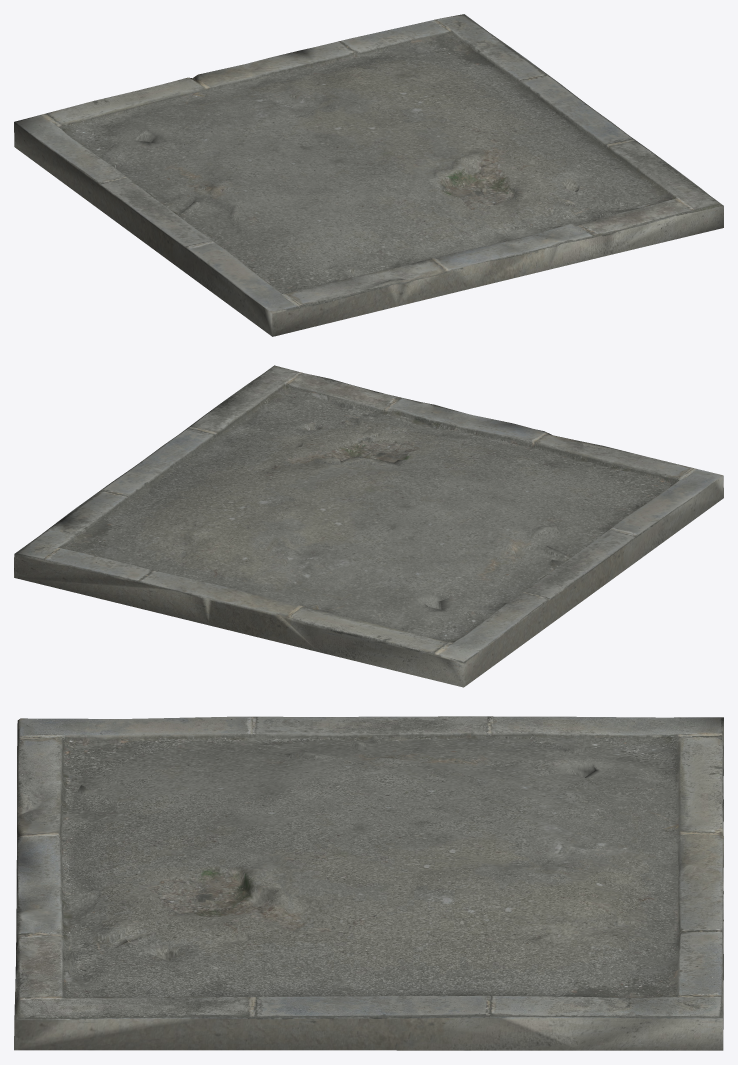
Rendered from PX_Tree_Pit_02_LOD4.fbx.
The picture shows the model from 3 angles, top to bottom: view 1: azimuth 30°, elevation 25°; view 2: azimuth 150°, elevation 25°; view 3: azimuth 270°, elevation 25°; orthographic projection. The views are drawn at different scales.
Parts seen in each view (by area): view 1: PX_Tree_Pit_02_LOD4; view 2: PX_Tree_Pit_02_LOD4; view 3: PX_Tree_Pit_02_LOD4.
Boxes of the visible parts, <box> form: PX_Tree_Pit_02_LOD4: <box>14,14,723,336</box>; PX_Tree_Pit_02_LOD4: <box>14,365,723,687</box>; PX_Tree_Pit_02_LOD4: <box>14,716,723,1050</box>.
Size of the model in its own units: 99.8 by 8.61 by 99.87.
